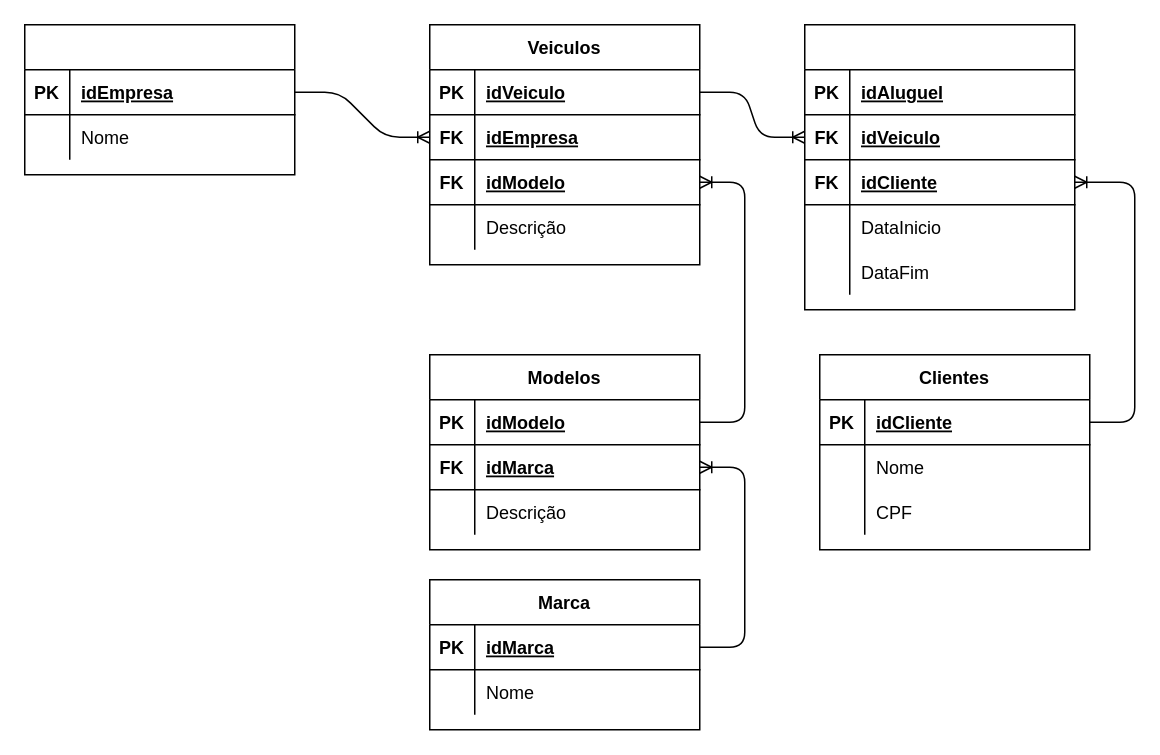
Image size: 1160x755. Some labels were removed from this diagram. The shapes that lost their labels are listed below. From the top down, each one's box as (x1, y1, x2, y2) in pixels, then its label:
(23, 23, 295, 175): Empresas
(803, 23, 1075, 310): Alugueis
